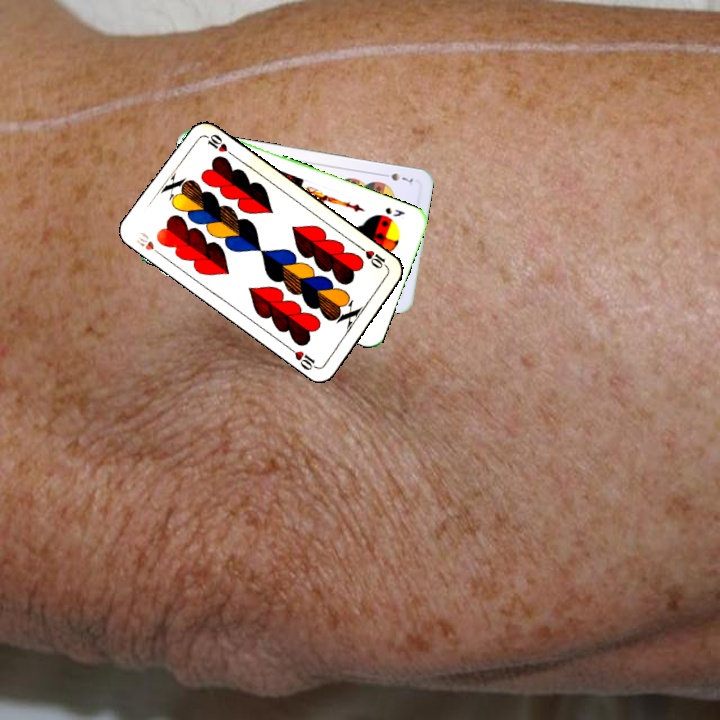H10: (132, 228, 166, 259), (356, 242, 391, 271)
S7: (377, 169, 416, 185)
SK: (381, 203, 407, 219)
